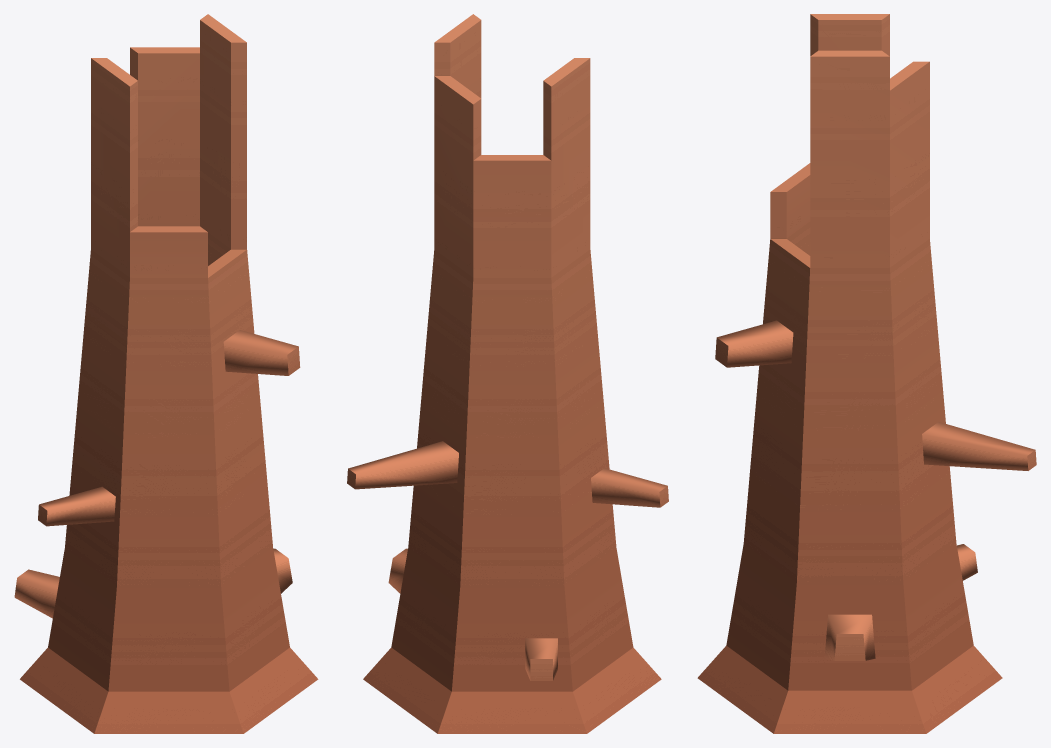
File: trunk-long.glb
3 views of the same model, side by side, from view 1: azimuth 30°, elevation 25°; view 2: azimuth 150°, elevation 25°; view 3: azimuth 270°, elevation 25° (orthographic). The views are drawn at different scales.
Visible parts, largest first — view 1: trunk-long; view 2: trunk-long; view 3: trunk-long.
Boxes of the visible parts, x1,y1,x2,y2 form: trunk-long: [14, 14, 318, 733]; trunk-long: [347, 14, 668, 733]; trunk-long: [697, 14, 1036, 733].
Bounding box in the file's own units: 0.5442 × 1.29 × 0.6118.
1 material, 1 textured.
